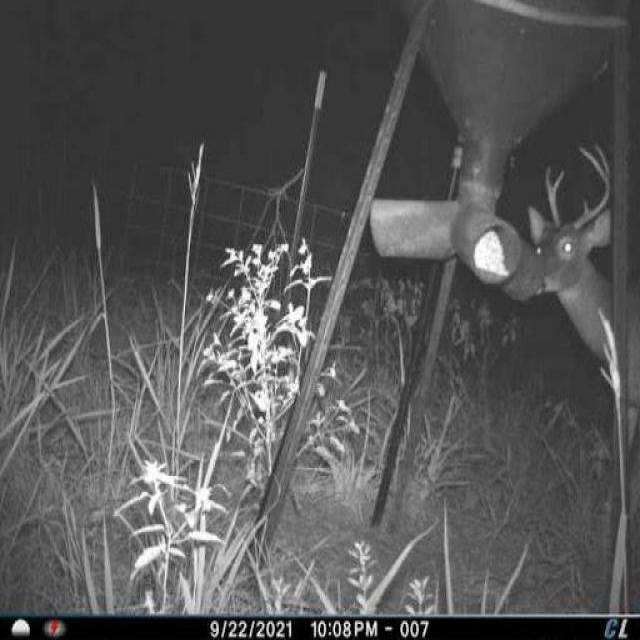deer: (532, 131, 640, 466)
